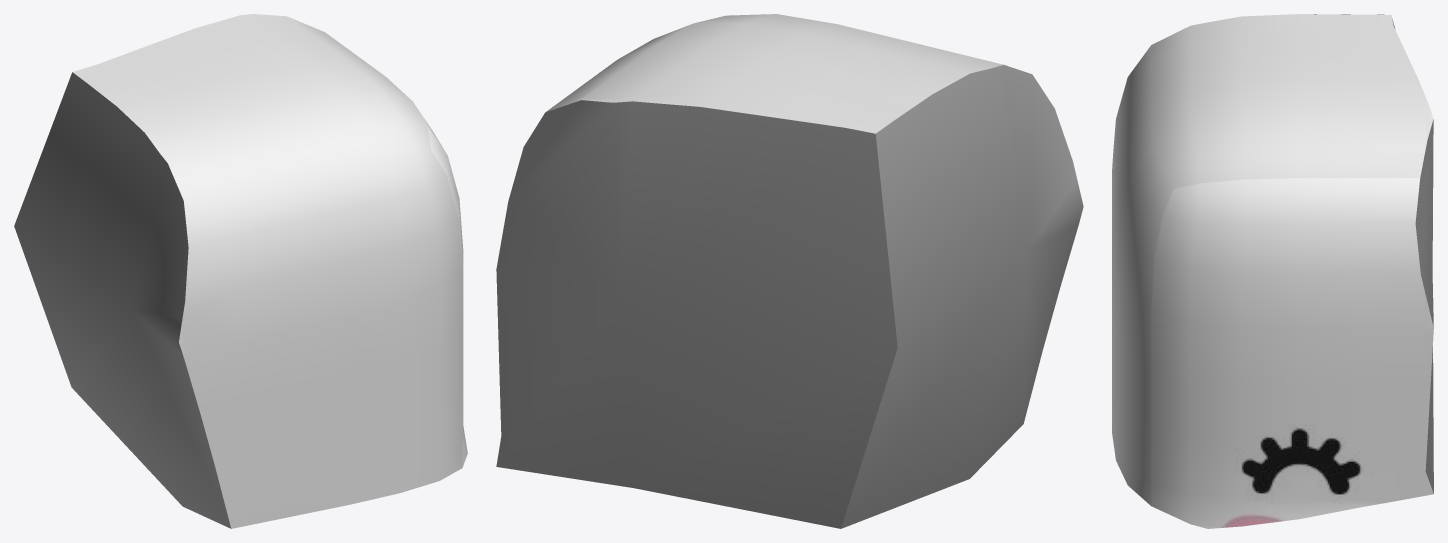
Rendered from Happy_Box2.fbx.
The picture shows the model from 3 angles, left to right: view 1: azimuth 30°, elevation 25°; view 2: azimuth 150°, elevation 25°; view 3: azimuth 270°, elevation 25°; orthographic projection. The views are drawn at different scales.
Visible parts, largest first — view 1: Happy_Box2; view 2: Happy_Box2; view 3: Happy_Box2.
Boxes of the visible parts, <box> form: Happy_Box2: <box>14,14,467,528</box>; Happy_Box2: <box>496,14,1083,528</box>; Happy_Box2: <box>1112,14,1433,528</box>.
Size of the model in its own units: 26.12 by 27.64 by 21.68.
Materials: 2 (1 with a texture image).
